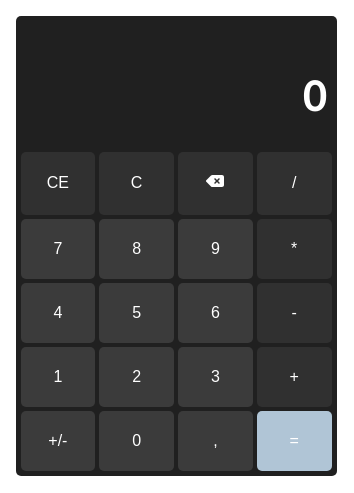
Scenario: Click Events › should allow a simple equation [1+2*3]
Click the button "1". click: x=58, y=377
box: [20, 347, 95, 407]
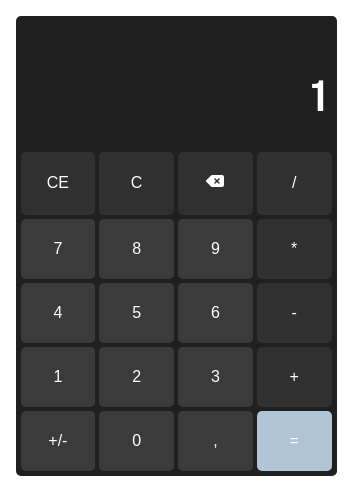
Click the button "+". click: x=294, y=377
box: [257, 347, 332, 407]
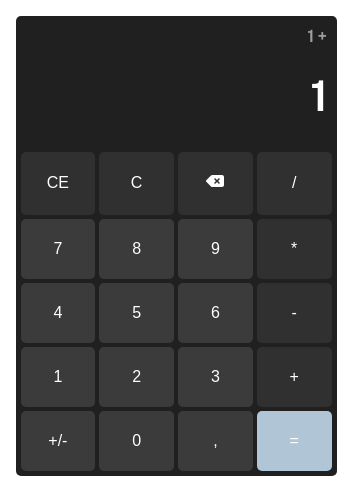
Click the button "2". click: x=137, y=377
box: [99, 347, 174, 407]
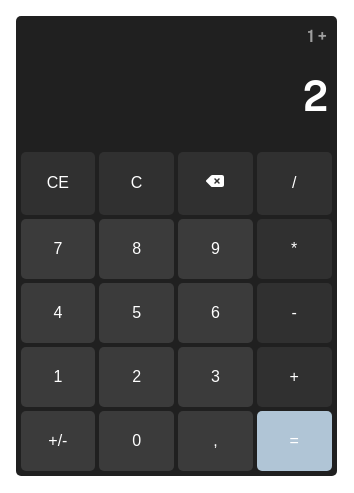
Click the button "*". click: x=294, y=249
box: [257, 218, 332, 279]
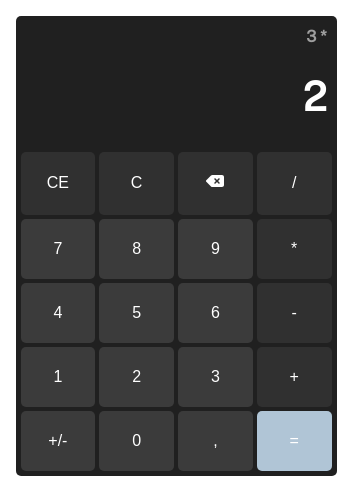
Click the button "3". click: x=215, y=377
box: [178, 347, 253, 407]
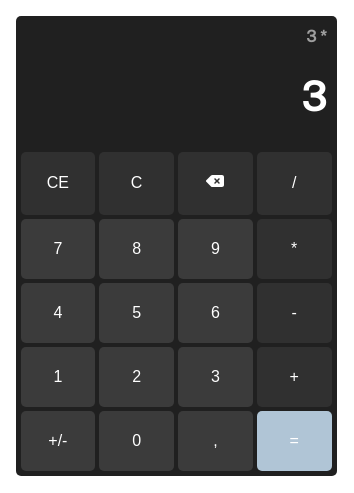
Click the button "=". click: x=294, y=441
box: [257, 411, 332, 471]
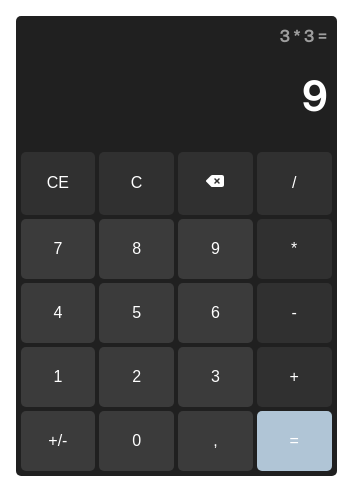
Result: the heading "3 * 3 =" is shown at [280, 27, 326, 46]
Result: the heading "9" is shown at [302, 73, 326, 120]
